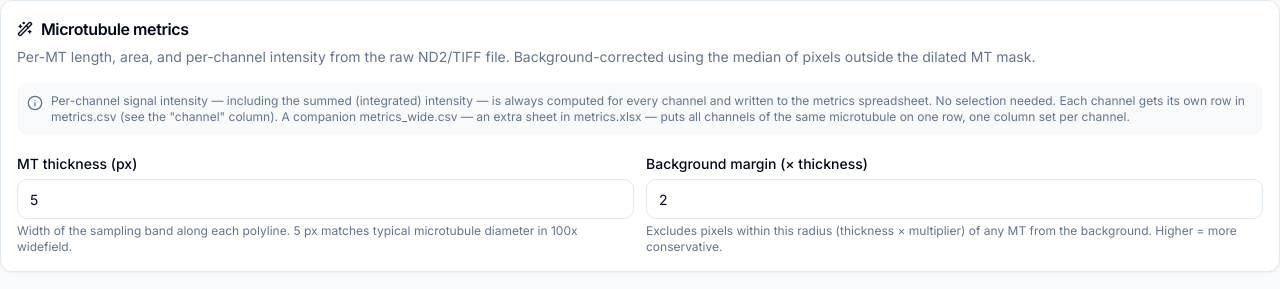
it: MicrotubuleMetricsSection › thickness input › snaps back to last good value on blur when empty
Clear the number field labelled "MT thickness (px)" at (326,199), box [17,179,634,219]
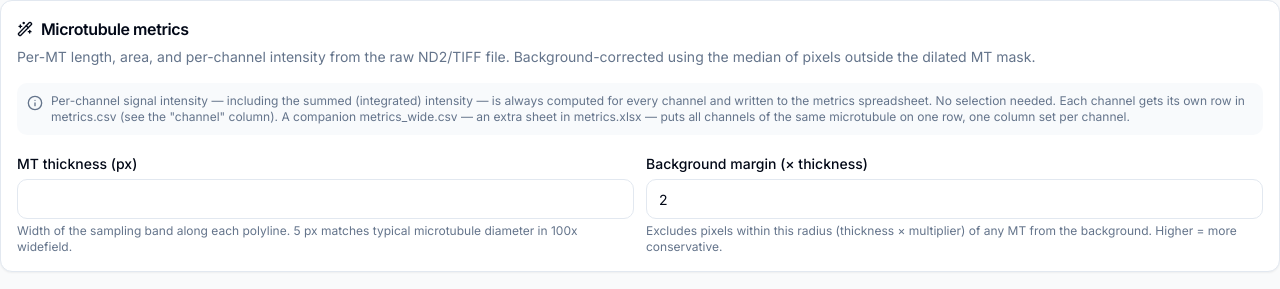
Leave the number field labelled "MT thickness (px)", box [17,179,634,219]
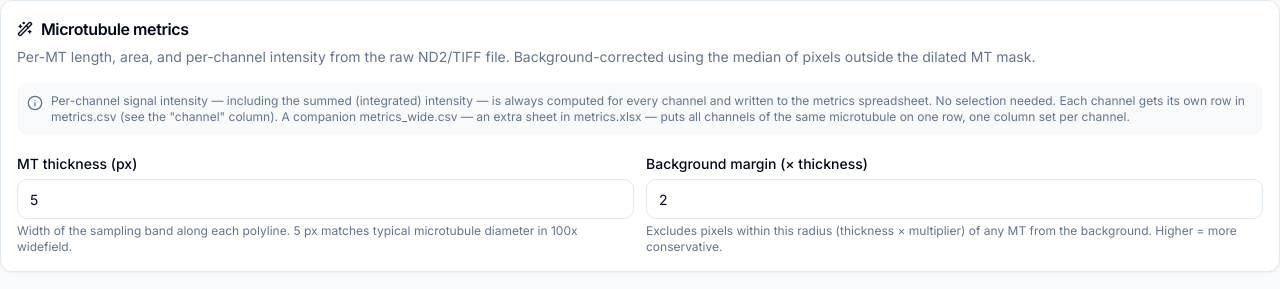
expect the number field labelled "MT thickness (px)" holds "5": met, box [17,179,634,219]
